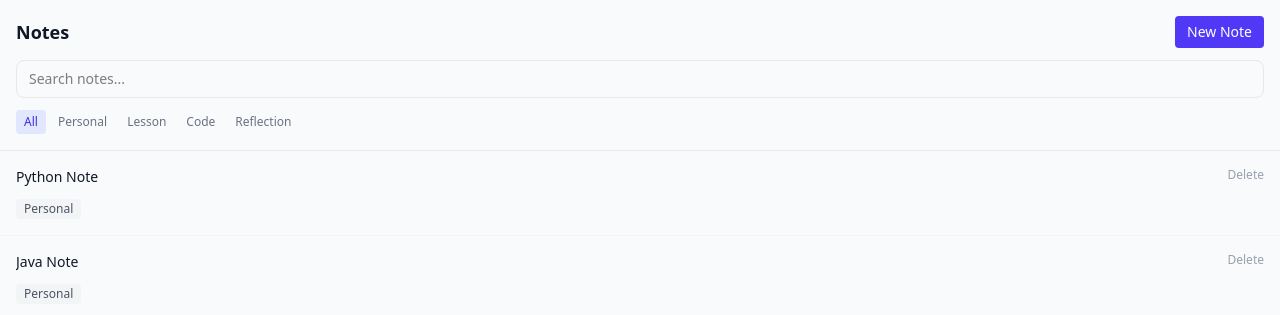
Test: NoteList › searches notes
Type "Python" into the field with placeholder "Search notes...". click: {"x": 640, "y": 79}
box: 16,60 -> 1264,98
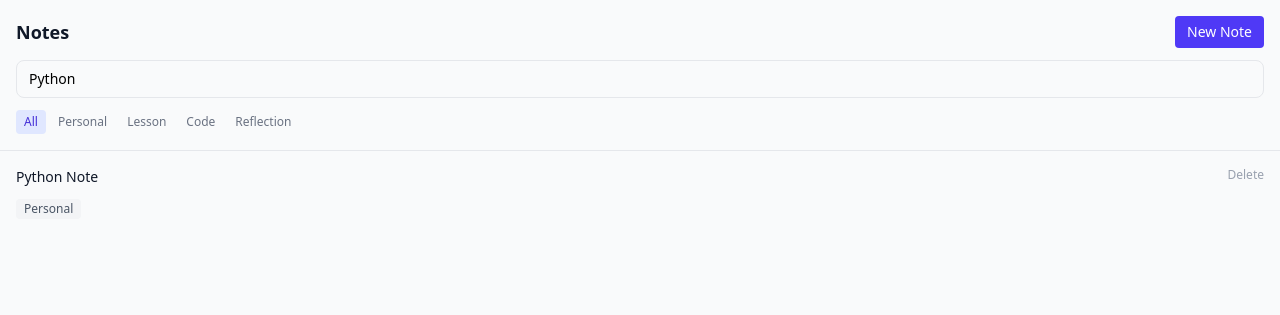
Expected: the heading "Python Note" is shown, 16,167 -> 98,186
Expected: the heading "Java Note" is gone
